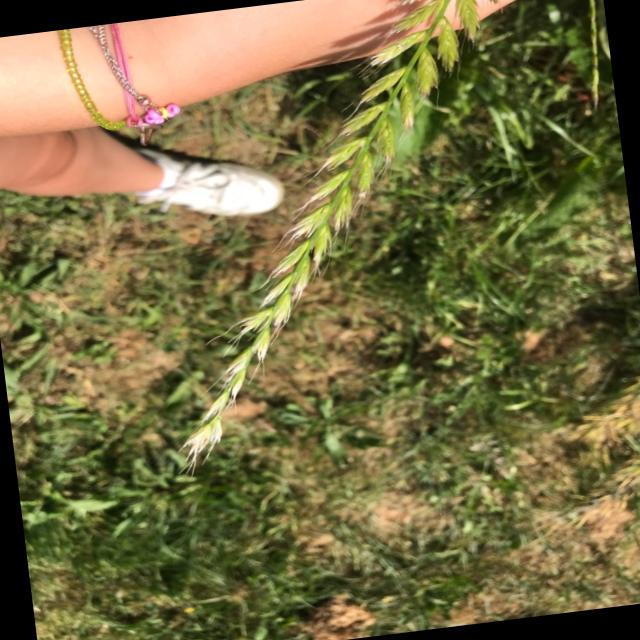Lolium: (117, 0, 552, 478)
